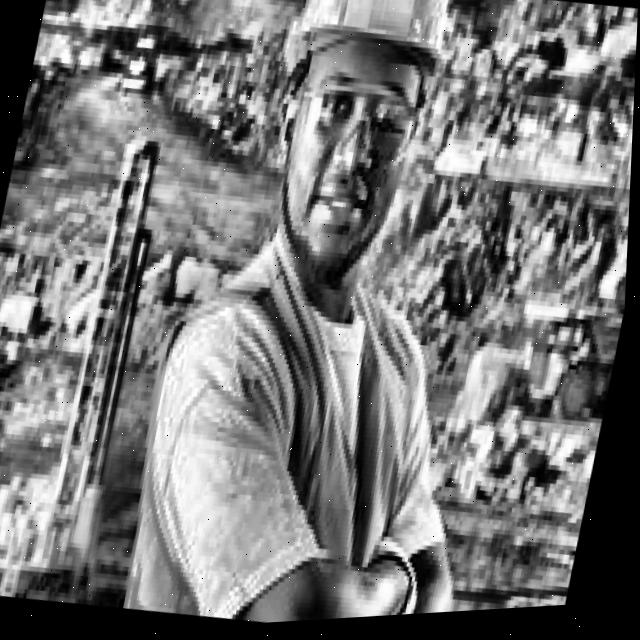dump_truck: (501, 261, 630, 450)
